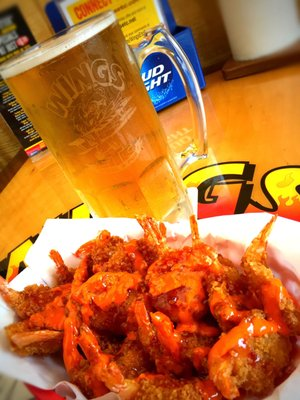pizza: (0, 9, 199, 230)
